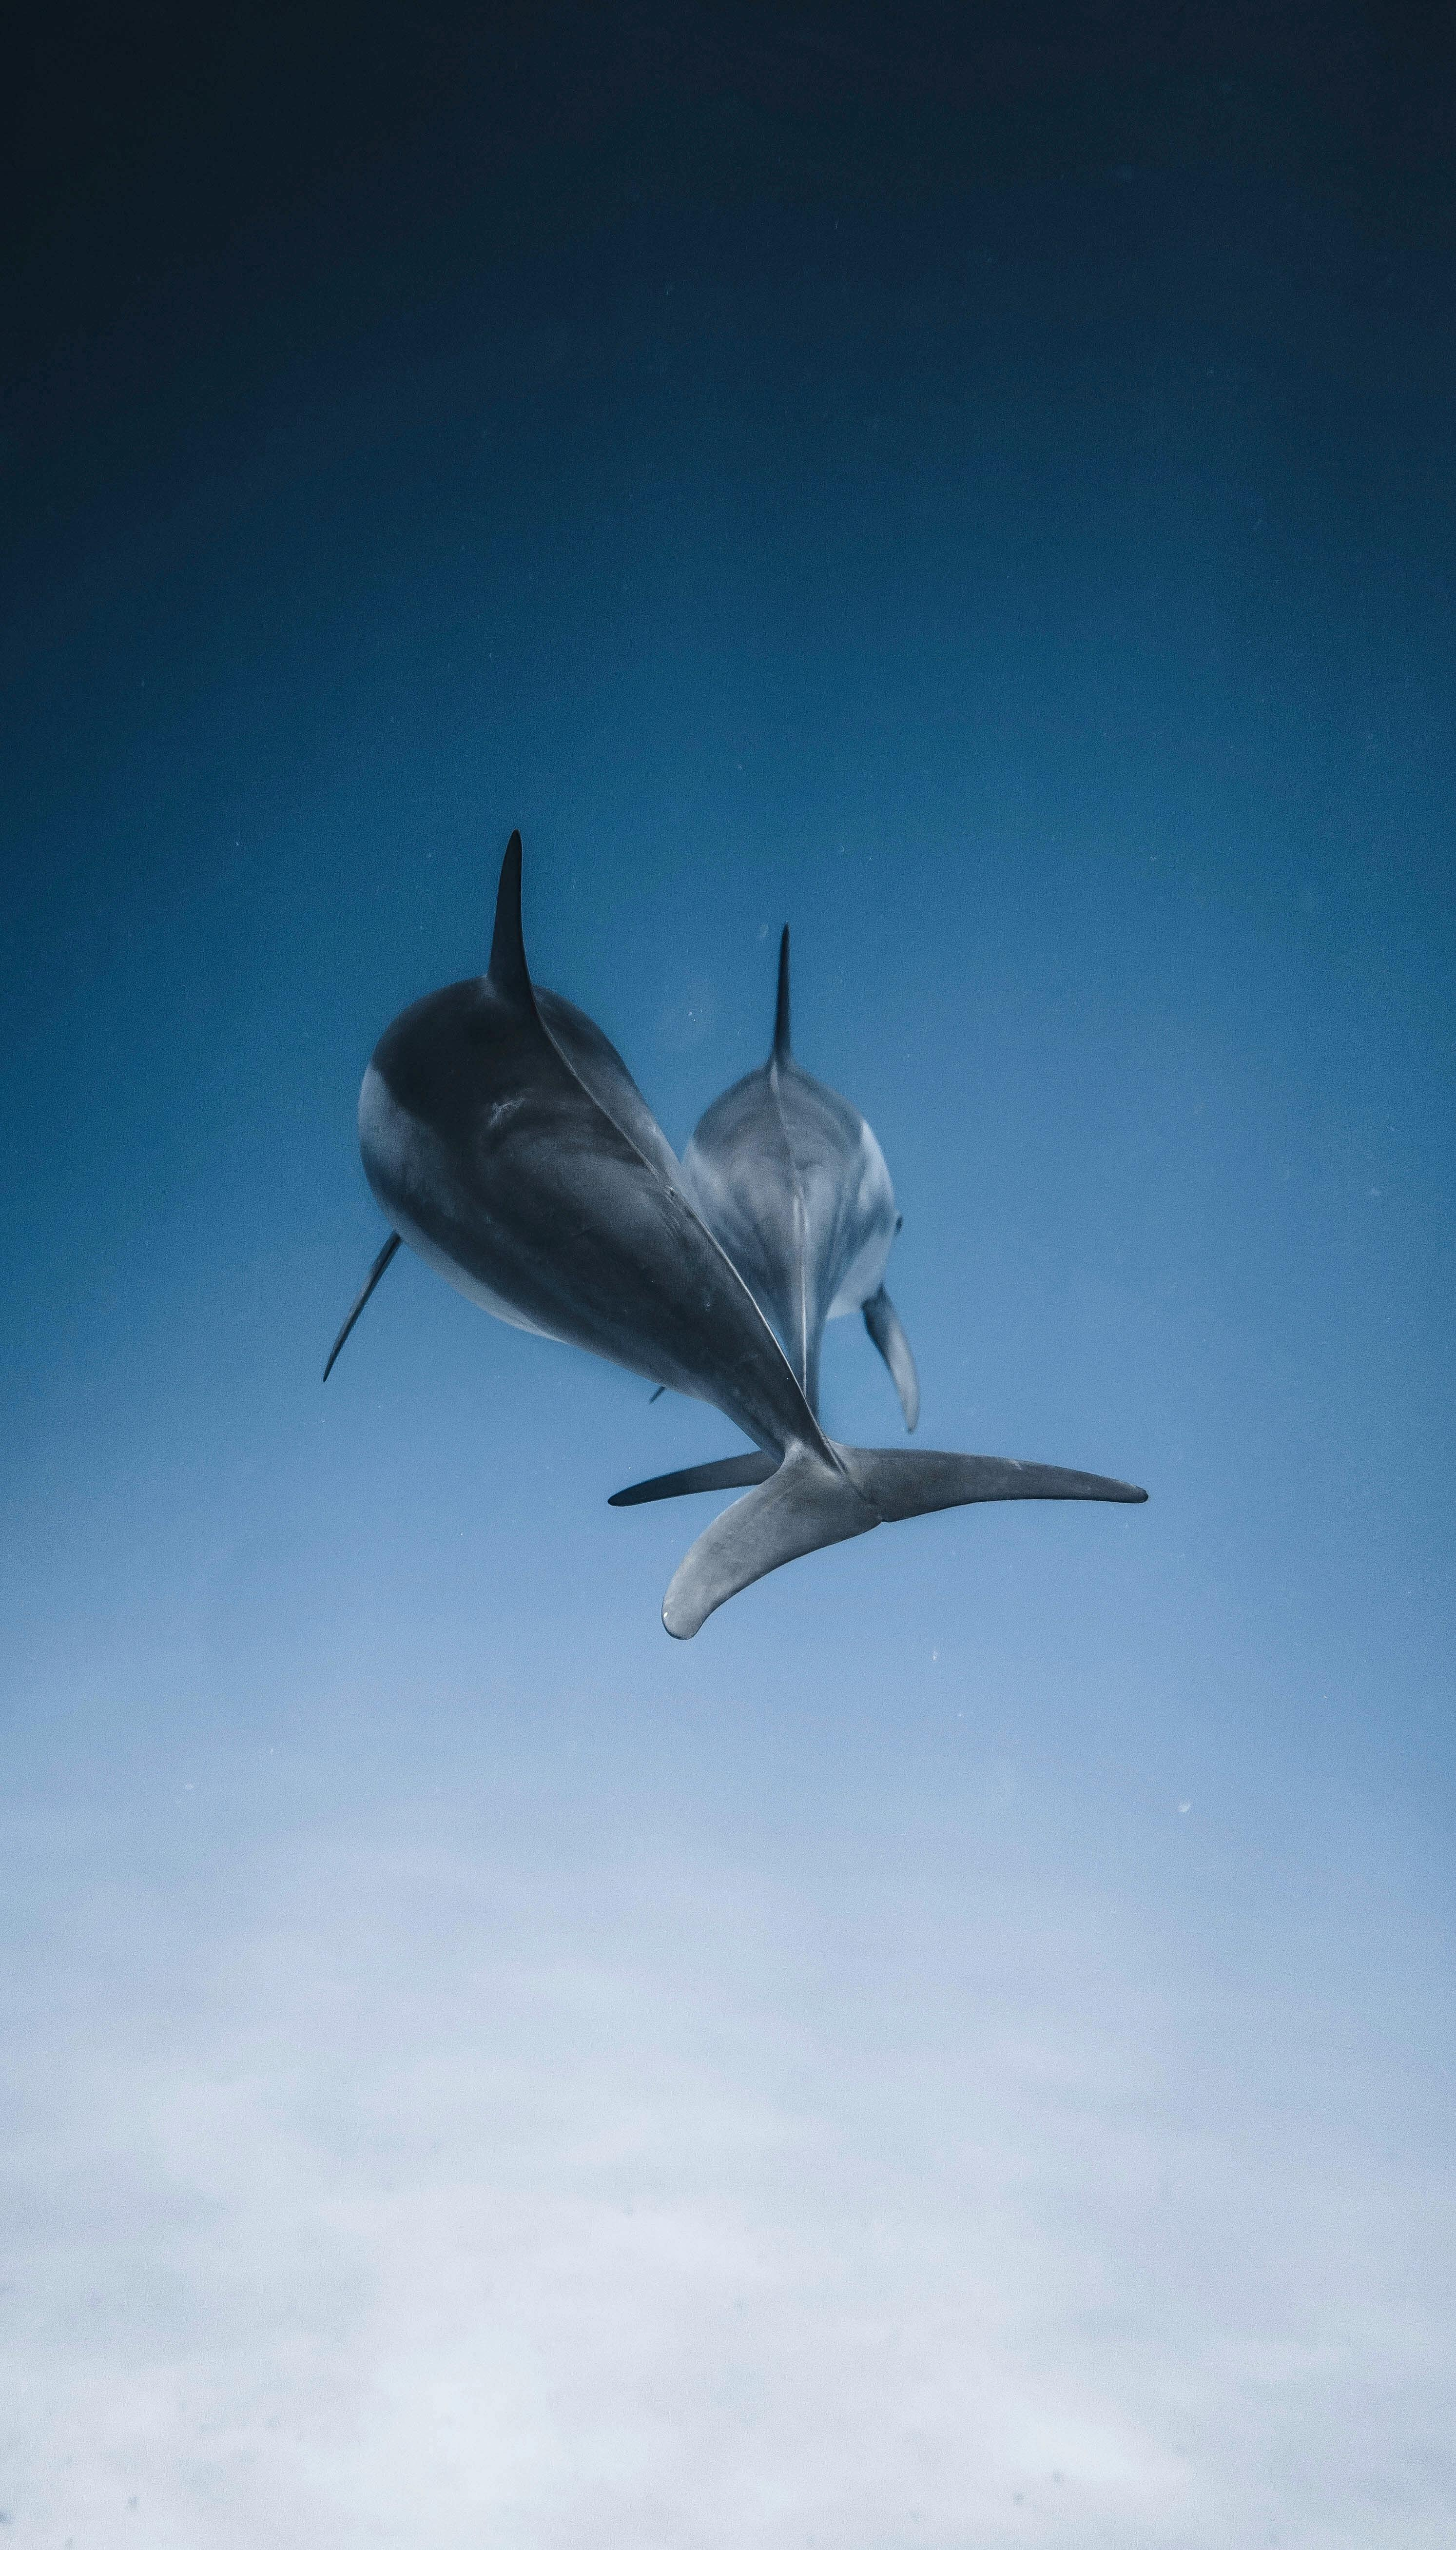dolphin: (310, 821, 1151, 1645), (607, 909, 931, 1520)
